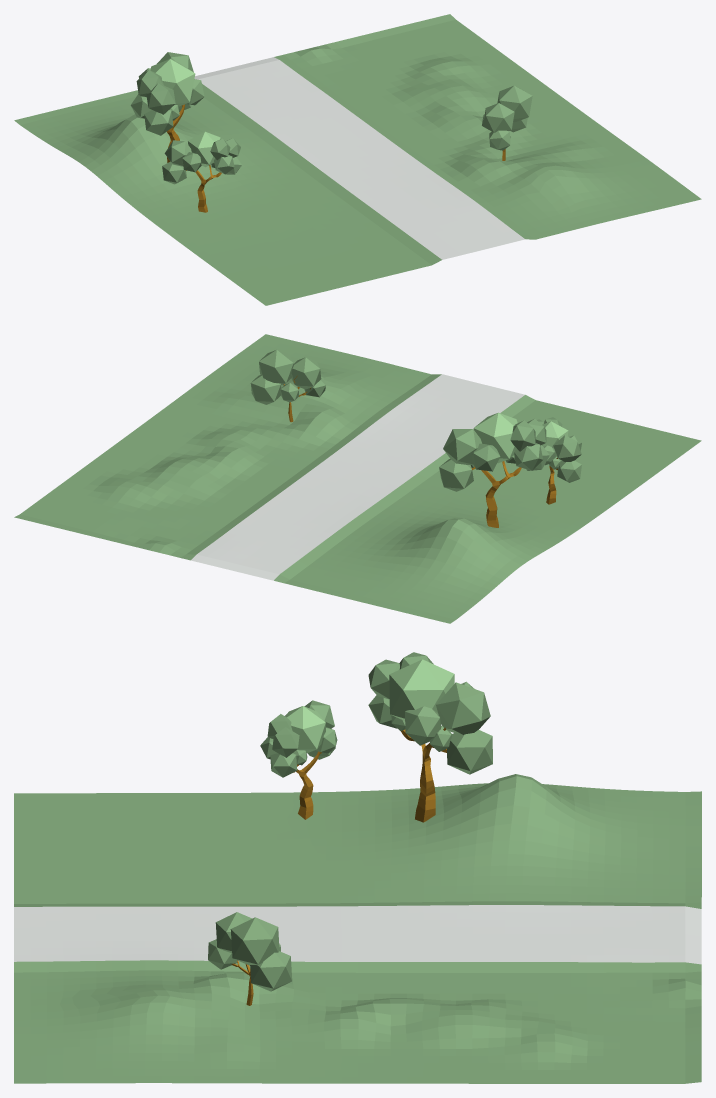
The model's file is ova.fbx.
3 views of the same model, one above another, from view 1: azimuth 30°, elevation 25°; view 2: azimuth 150°, elevation 25°; view 3: azimuth 270°, elevation 25° (orthographic). The views are drawn at different scales.
Parts seen in each view (by area): view 1: Plane, Cube.001, Cube.002, Icosphere.011; view 2: Plane, Cube.001, Icosphere.011, Cube.002; view 3: Plane, Cube.001, Cube.002, Icosphere.011.
Part boxes in pixels (x1,y1,x2,y2): Plane: (14,14,701,305); Cube.001: (130,52,204,162); Cube.002: (162,131,241,212); Icosphere.011: (482,85,532,160); Plane: (14,334,701,623); Cube.001: (439,412,549,527); Icosphere.011: (250,349,325,422); Cube.002: (537,417,581,504); Plane: (14,774,701,1083); Cube.001: (368,652,492,822); Cube.002: (260,700,337,819); Icosphere.011: (208,912,292,1005).
Size of the model in its own units: 1636 by 447 by 1634.
